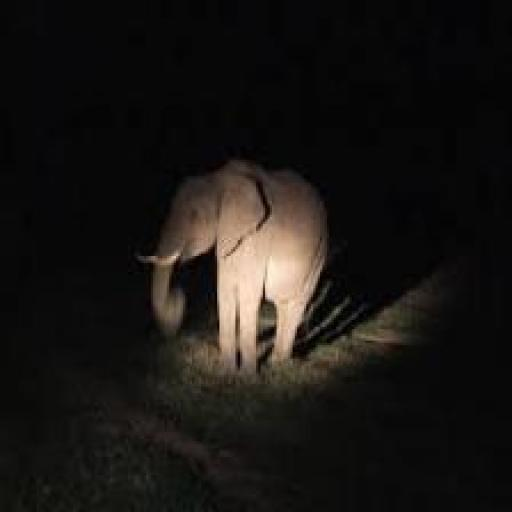Elephant: (139, 160, 327, 376)
